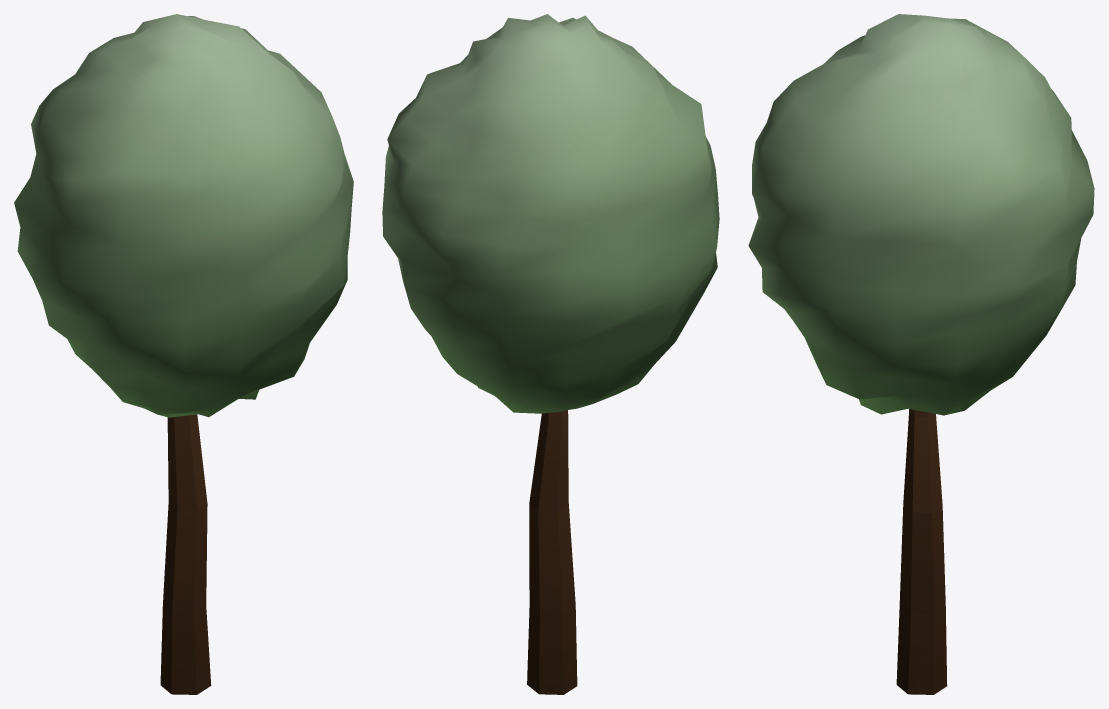
The model's file is Tree_leafs.fbx.
3 renders of one model, left to right at view 1: azimuth 30°, elevation 25°; view 2: azimuth 150°, elevation 25°; view 3: azimuth 270°, elevation 25°, orthographic.
Visible parts, largest first — view 1: Tree_leafs; view 2: Tree_leafs; view 3: Tree_leafs.
Boxes of the visible parts, x1,y1,x2,y2 form: Tree_leafs: [14, 14, 353, 694]; Tree_leafs: [382, 14, 719, 694]; Tree_leafs: [748, 14, 1094, 694].
Size of the model in its own units: 13.29 by 29.18 by 13.78.
